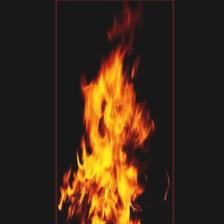fire: (56, 0, 173, 224)
